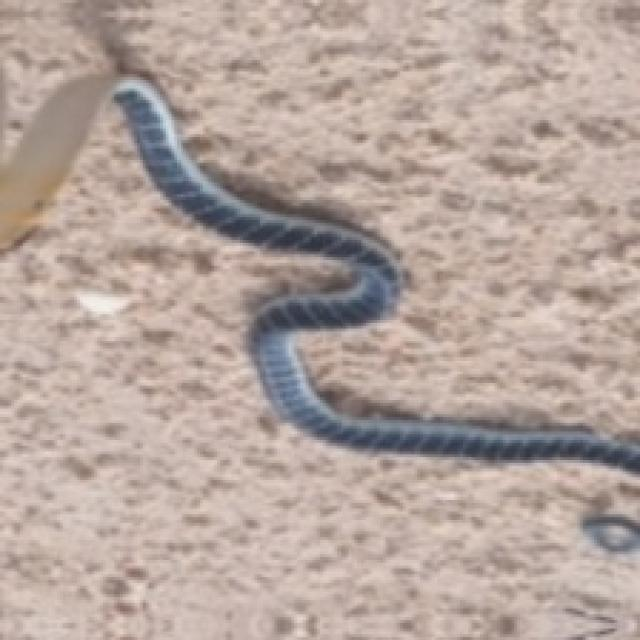king cobra: (111, 77, 637, 471)
